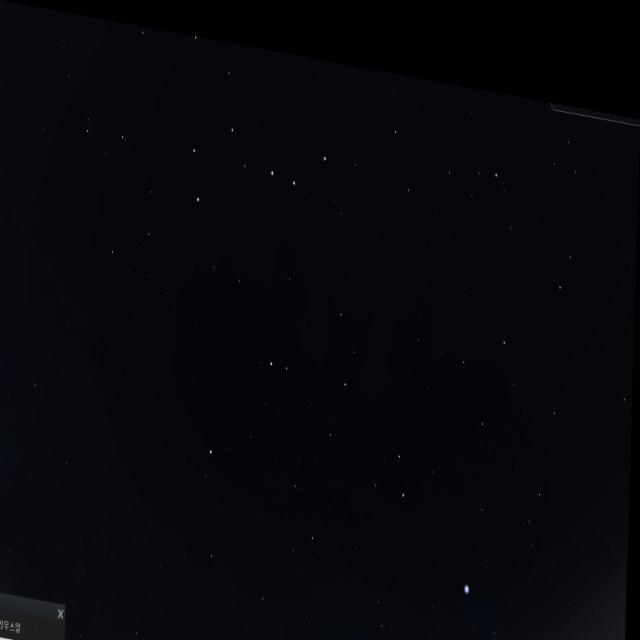lyra: (453, 549, 511, 640)
ursa_major: (187, 90, 331, 234)
